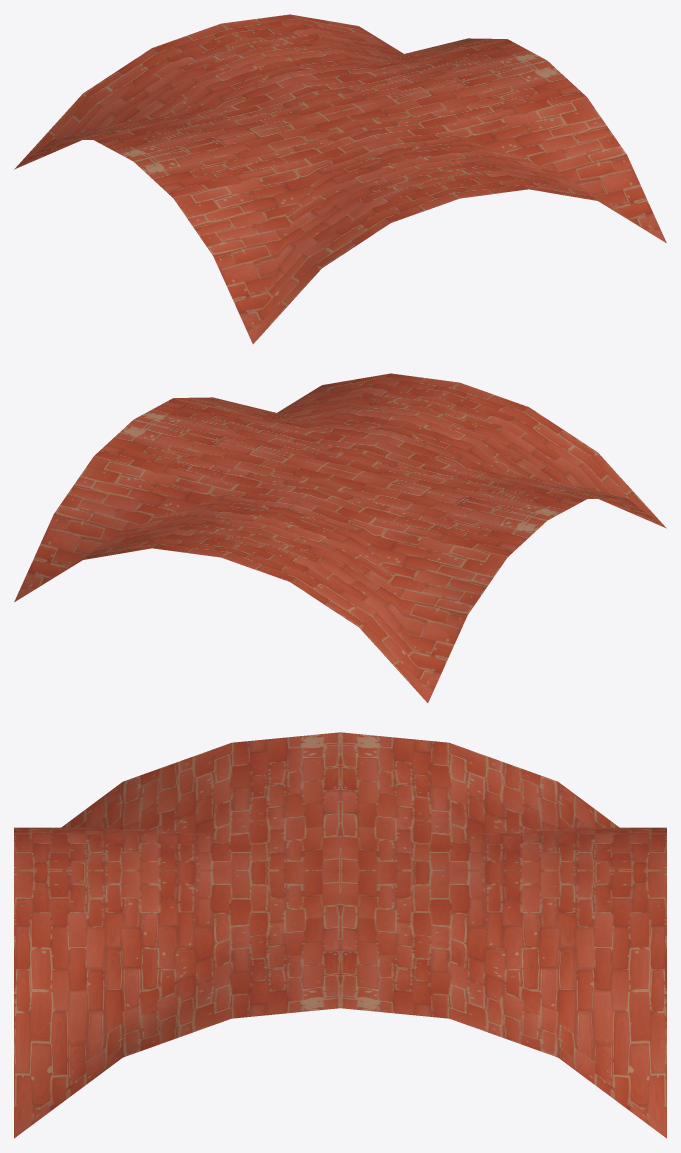
File: Passage_02.fbx
3 views of the same model, one above another, from view 1: azimuth 30°, elevation 25°; view 2: azimuth 150°, elevation 25°; view 3: azimuth 270°, elevation 25° (orthographic). The views are drawn at different scales.
Parts seen in each view (by area): view 1: Passage_02; view 2: Passage_02; view 3: Passage_02.
Boxes of the visible parts, box(x1,y1,x2,y2) form: Passage_02: box(14, 14, 666, 343); Passage_02: box(14, 373, 666, 702); Passage_02: box(14, 732, 666, 1138).
Bounding box in the file's own units: 4 × 0.8816 × 4.
